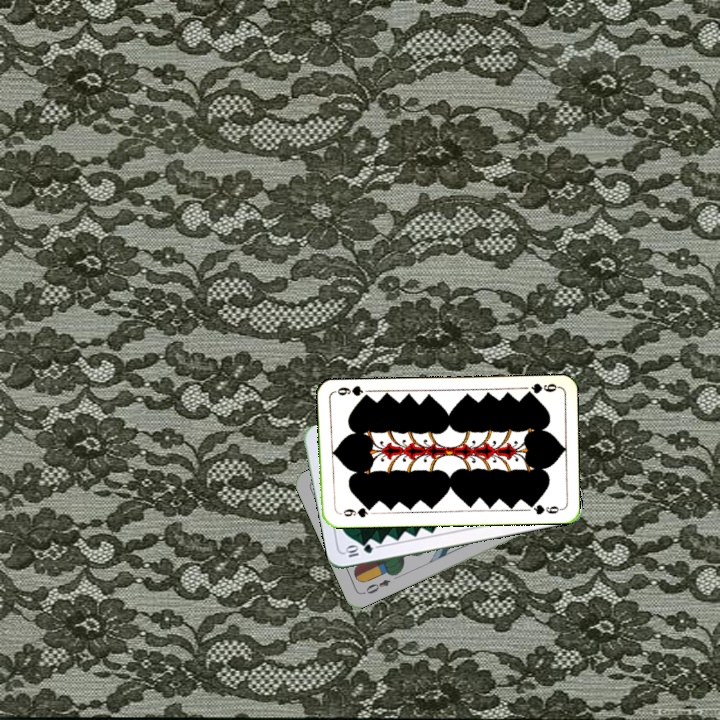EO: (359, 575, 393, 597)
G10: (341, 540, 375, 560)
G9: (520, 379, 561, 399), (339, 503, 375, 520)
